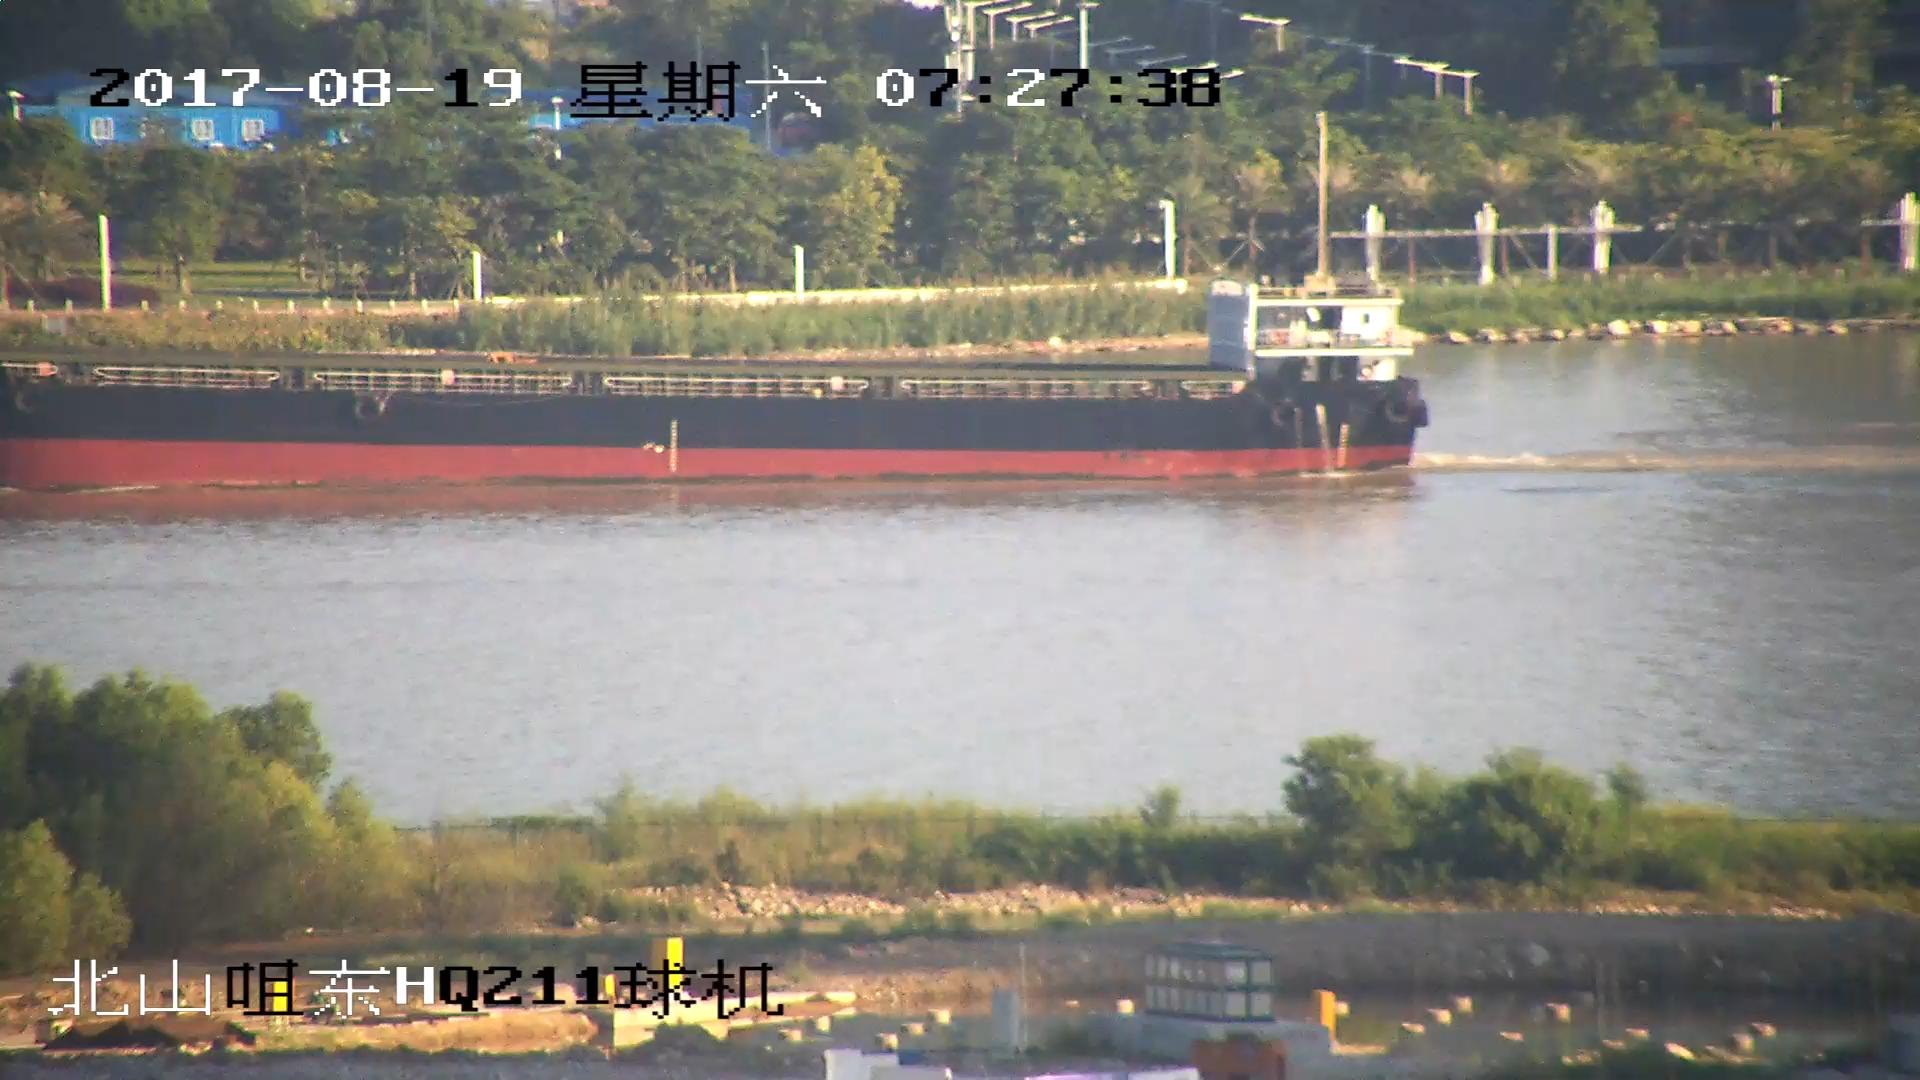general cargo ship: (1, 261, 1431, 488)
